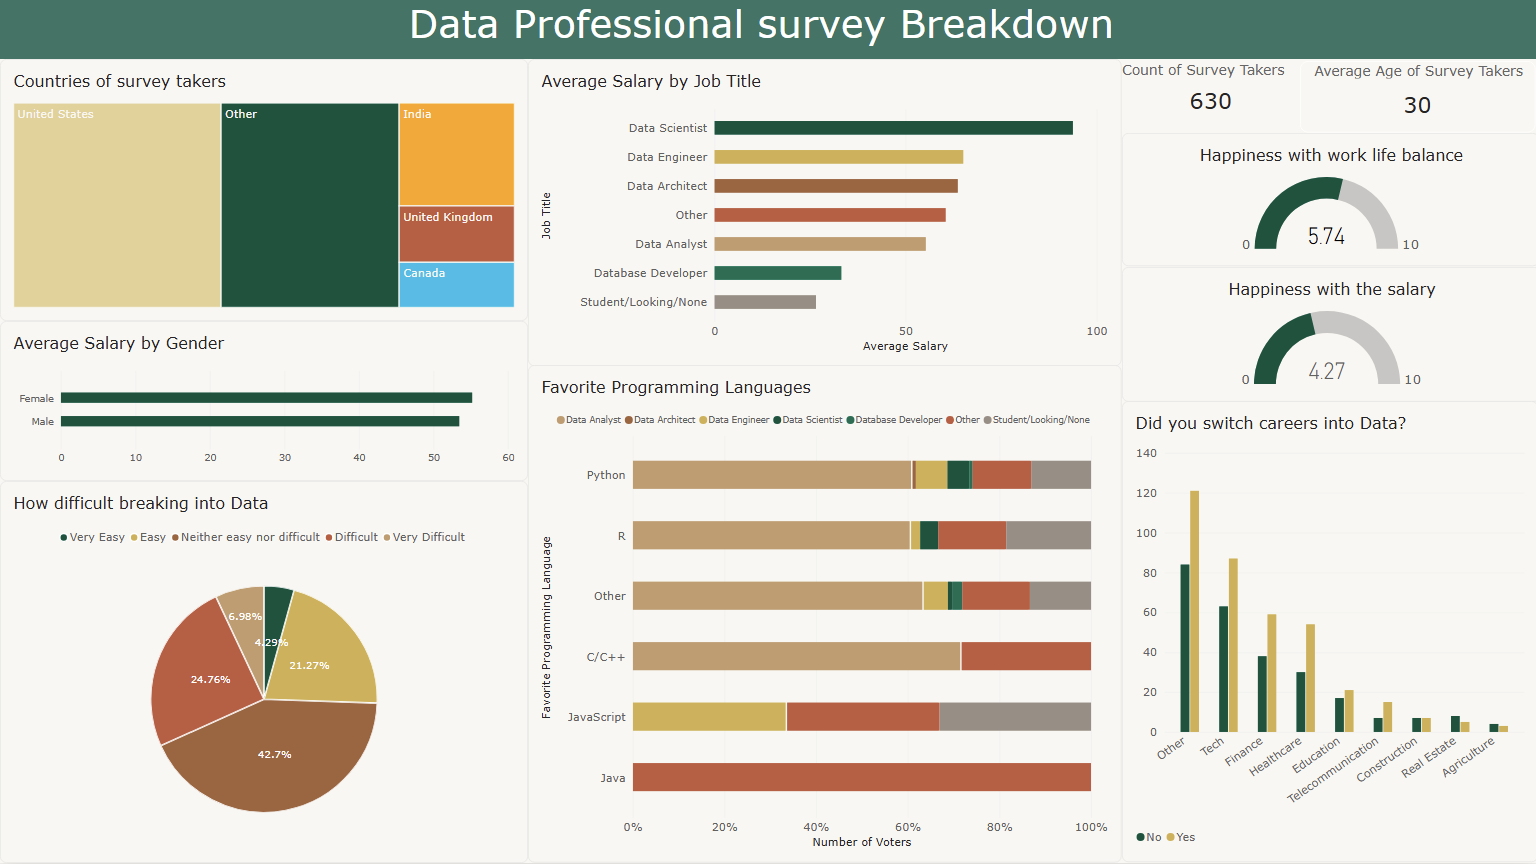

Layout of this report page (visuals, bound fields, positions):
{"tool":"powerbi","page":{"name":"Page 1","canvas":[1920,1080],"ordinal":0},"visuals":[{"type":"textbox","box":[0,0,1920,75],"z":0},{"type":"cardVisual","fields":{"Data":["CountNonNull(Data Professional Survey.Unique ID)"]},"box":[1422.5,77.5,222.5,90],"z":1000},{"type":"cardVisual","fields":{"Data":["Avg(Data Professional Survey.Q10 - Current Age)"]},"box":[1645,77.5,277.5,90],"z":2000},{"type":"barChart","title":"Average Salary By Job Title","fields":{"Category":["Data Professional Survey.Q1 - Which Title Best Fits your Current Role?.1"],"Series":["Data Professional Survey.Q1 - Which Title Best Fits your Current Role?.1"],"Y":["Avg(Data Professional Survey.Average Salary)"]},"box":[660,75,765,382.5],"z":3000},{"type":"columnChart","title":"Favorite Programming Languages","fields":{"Category":["Data Professional Survey.Q5 - Favorite Programming Language.1"],"Series":["Data Professional Survey.Q1 - Which Title Best Fits your Current Role?.1"],"Y":["CountNonNull(Data Professional Survey.Unique ID)"]},"box":[660,457.5,765,622.5],"z":4000},{"type":"treemap","title":"Country of  survey takers","fields":{"Group":["Data Professional Survey.Q11 - Which Country do you live in?.1"],"Values":["CountNonNull(Data Professional Survey.Q11 - Which Country do you live in?.1)"]},"box":[0,75,660,327.5],"z":5000},{"type":"gauge","title":"Happiness with work life balance","fields":{"MaxValue":["Max(Data Professional Survey.Q6 - How Happy are you in your Current Position with the following? (Work/Life Balance))1"],"MinValue":["Min(Data Professional Survey.Q6 - How Happy are you in your Current Position with the following? (Work/Life Balance))"],"Y":["Avg(Data Professional Survey.Q6 - How Happy are you in your Current Position with the following? (Work/Life Balance))"]},"box":[1422.5,167.5,500,167.5],"z":6000},{"type":"gauge","title":"Happiness with the salary","fields":{"MaxValue":["Max(Data Professional Survey.Q6 - How Happy are you in your Current Position with the following? (Salary))"],"MinValue":["Min(Data Professional Survey.Q6 - How Happy are you in your Current Position with the following? (Salary))"],"Y":["Avg(Data Professional Survey.Q6 - How Happy are you in your Current Position with the following? (Salary))"]},"box":[1422.5,335,502.5,167.5],"z":7000},{"type":"donutChart","title":"Average Salary by Gender","fields":{"Category":["Data Professional Survey.Q9 - Male/Female?"],"Y":["Avg(Data Professional Survey.Average Salary)"]},"box":[0,402.5,660,200],"z":8000},{"type":"pieChart","title":" How difficult breaking into Data","fields":{"Category":["Data Professional Survey.Q7 - How difficult was it for you to break into Data?"],"Y":["CountNonNull(Data Professional Survey.Q7 - How difficult was it for you to break into Data?)"]},"box":[0,602.5,660,477.5],"z":9000},{"type":"clusteredColumnChart","title":"Did you switch careers into Data?","fields":{"Category":["Data Professional Survey.Q4 - What Industry do you work in?.1"],"Series":["Data Professional Survey.Q2 - Did you switch careers into Data?"],"Y":["CountNonNull(Data Professional Survey.Q2 - Did you switch careers into Data?)"]},"box":[1422.5,502.5,500,577.5],"z":10000}]}

Visuals, with their boxes in screenshot pixels (x1, y1, x2, y2), scaled from the page's 1920x1080 canvas onto the 1536x864 screenshot:
textbox: x1=0, y1=0, x2=1535, y2=60
cardVisual - CountNonNull(Data Professional Survey.Unique ID): x1=1138, y1=62, x2=1316, y2=134
cardVisual - Avg(Data Professional Survey.Q10 - Current Age): x1=1316, y1=62, x2=1535, y2=134
"Average Salary By Job Title" barChart: x1=528, y1=60, x2=1140, y2=366
"Favorite Programming Languages" columnChart: x1=528, y1=366, x2=1140, y2=863
"Country of  survey takers" treemap: x1=0, y1=60, x2=528, y2=322
"Happiness with work life balance" gauge: x1=1138, y1=134, x2=1535, y2=268
"Happiness with the salary" gauge: x1=1138, y1=268, x2=1535, y2=402
"Average Salary by Gender" donutChart: x1=0, y1=322, x2=528, y2=482
" How difficult breaking into Data" pieChart: x1=0, y1=482, x2=528, y2=863
"Did you switch careers into Data?" clusteredColumnChart: x1=1138, y1=402, x2=1535, y2=863
